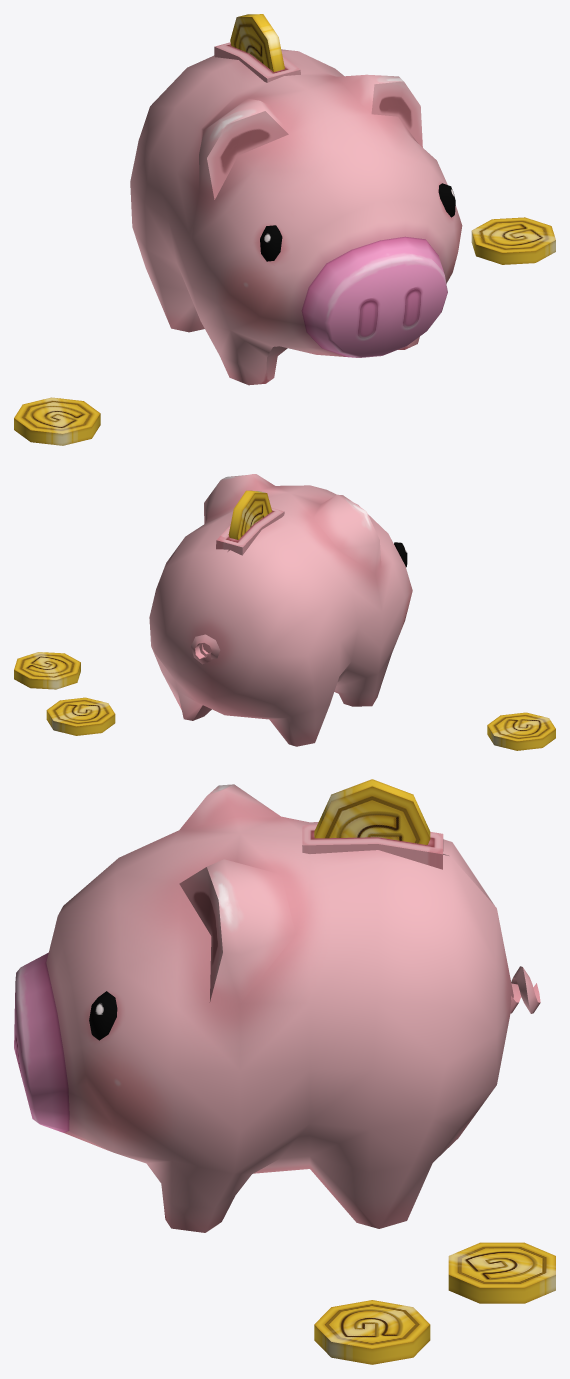
The model's file is obj_pig1.FBX.
3 renders of one model, top to bottom at view 1: azimuth 30°, elevation 25°; view 2: azimuth 150°, elevation 25°; view 3: azimuth 270°, elevation 25°, orthographic. The views are drawn at different scales.
Parts seen in each view (by area): view 1: pig, coin_004, coin_01, coin_02; view 2: pig, coin_003, coin_004, coin_01, coin_02; view 3: pig, coin_01, coin_003, coin_02.
Boxes of the visible parts, bbox=[...] form: pig: bbox=[130, 42, 462, 385]; coin_004: bbox=[14, 397, 100, 445]; coin_01: bbox=[471, 217, 555, 264]; coin_02: bbox=[230, 14, 284, 71]; pig: bbox=[149, 474, 412, 746]; coin_003: bbox=[46, 697, 115, 735]; coin_004: bbox=[487, 712, 555, 750]; coin_01: bbox=[14, 652, 80, 689]; coin_02: bbox=[228, 490, 272, 539]; pig: bbox=[14, 784, 540, 1232]; coin_01: bbox=[314, 1300, 430, 1364]; coin_003: bbox=[448, 1242, 555, 1303]; coin_02: bbox=[314, 779, 430, 844].
Bounding box in the file's own units: 7.94 × 3.73 × 4.67.
